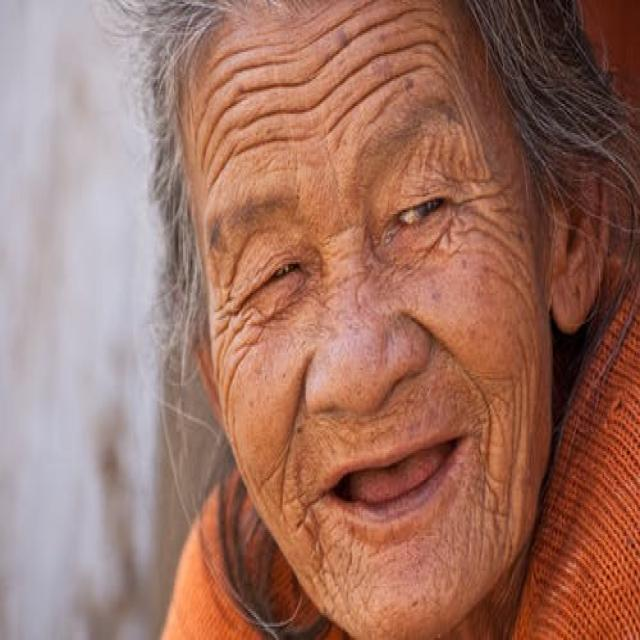Wrinkles: (239, 38, 458, 126), (194, 59, 298, 146), (313, 6, 442, 73), (325, 64, 437, 137), (273, 1, 372, 55), (201, 97, 246, 174), (452, 90, 481, 180), (469, 371, 494, 472), (491, 270, 534, 317), (237, 70, 323, 93), (484, 232, 532, 272), (233, 132, 316, 155), (222, 312, 253, 369), (207, 140, 238, 193), (419, 48, 457, 88), (209, 44, 267, 70), (206, 124, 234, 175), (226, 356, 243, 427), (473, 207, 511, 238), (508, 384, 517, 505), (520, 335, 530, 423), (280, 441, 292, 511), (515, 379, 523, 463), (236, 327, 263, 351), (465, 192, 502, 202), (214, 317, 230, 337)
